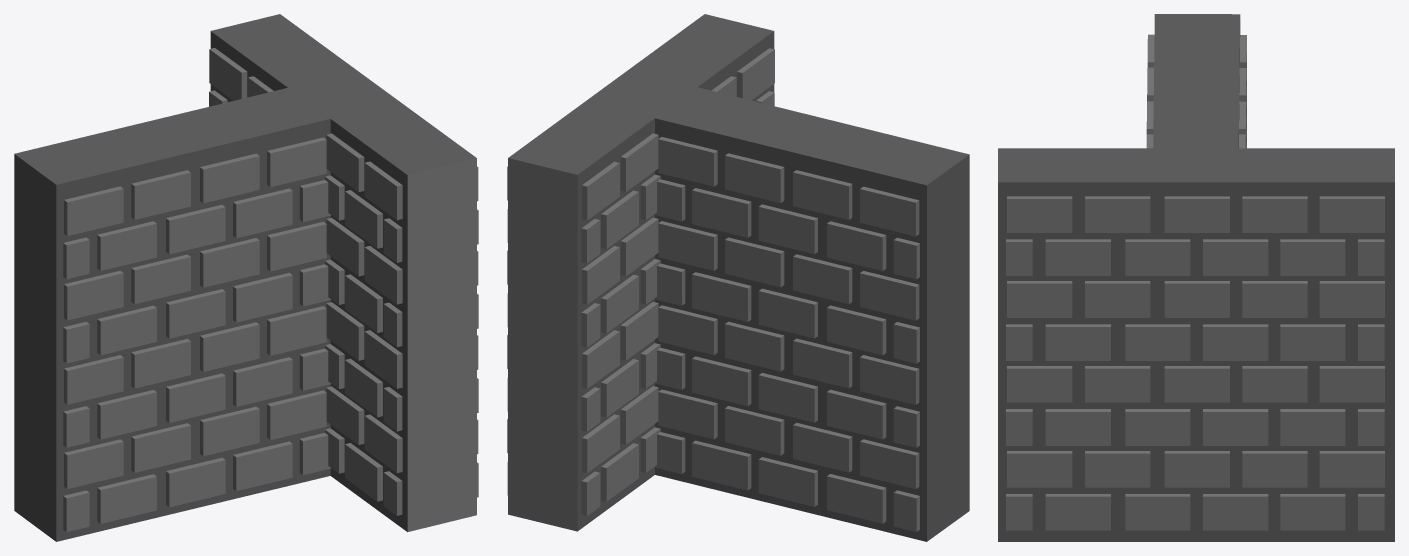
File: Tshapewall.fbx
The picture shows the model from 3 angles, left to right: view 1: azimuth 30°, elevation 25°; view 2: azimuth 150°, elevation 25°; view 3: azimuth 270°, elevation 25°; orthographic projection.
Parts seen in each view (by area): view 1: wall; view 2: wall; view 3: wall.
Part boxes in pixels (x1,y1,x2,y2): wall: [14, 14, 478, 541]; wall: [507, 14, 969, 541]; wall: [998, 14, 1394, 541].
Bounding box in the file's own units: 102 × 100 × 100.
